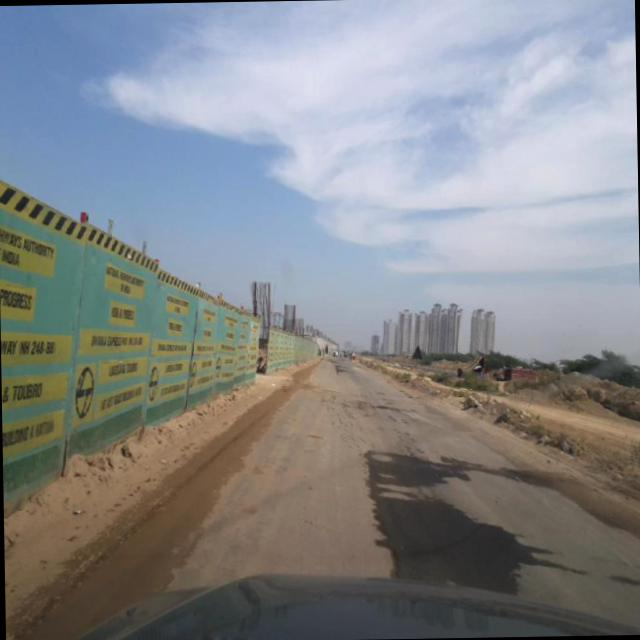crack: (361, 450, 409, 580), (318, 382, 404, 450)
pothole: (422, 454, 468, 480)
